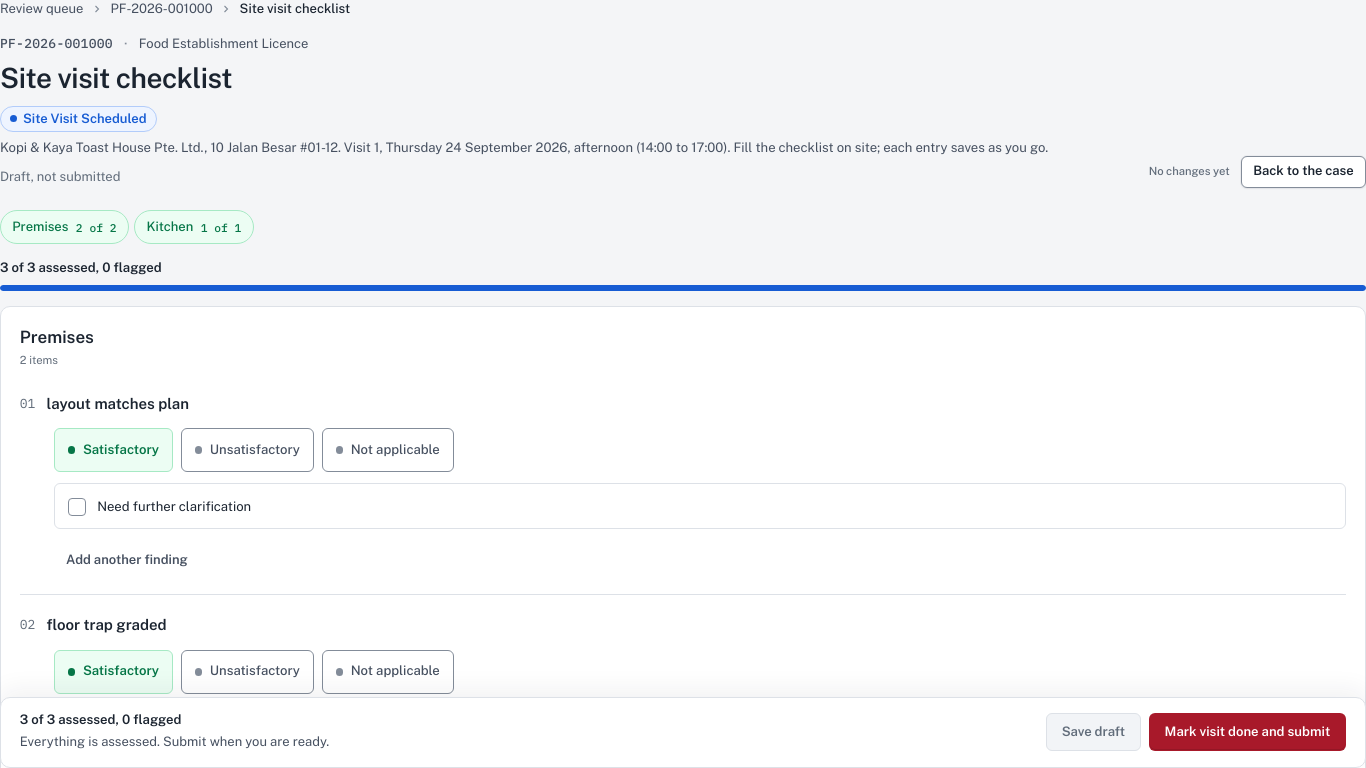
Scenario: site visit checklist (US-060, US-061) › a save refused because another tab submitted the checklist drops the edit and reloads the case
The width and height of the screenshot is (1366, 768).
Click the button "Not applicable" below "layout matches plan" at (388, 450), box [322,428,454,472]
Wait 1530 ms
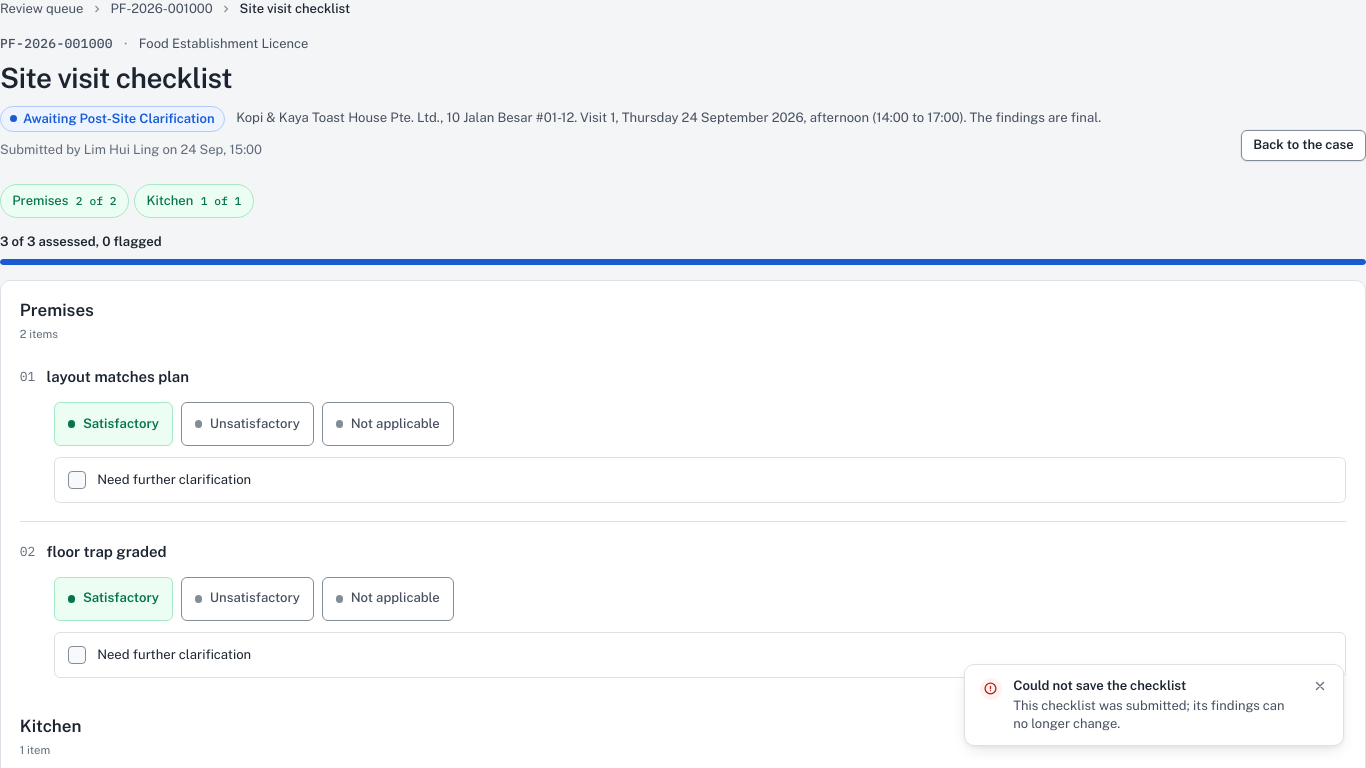
Expected: the text "This checklist was submitted; its findings can no longer change." is shown, [1013,697,1296,733]
Expected: the button "Not applicable" below "layout matches plan" is disabled, [322,402,454,446]
Expected: the text "Awaiting Post-Site Clarification" is shown, [0,106,225,132]
